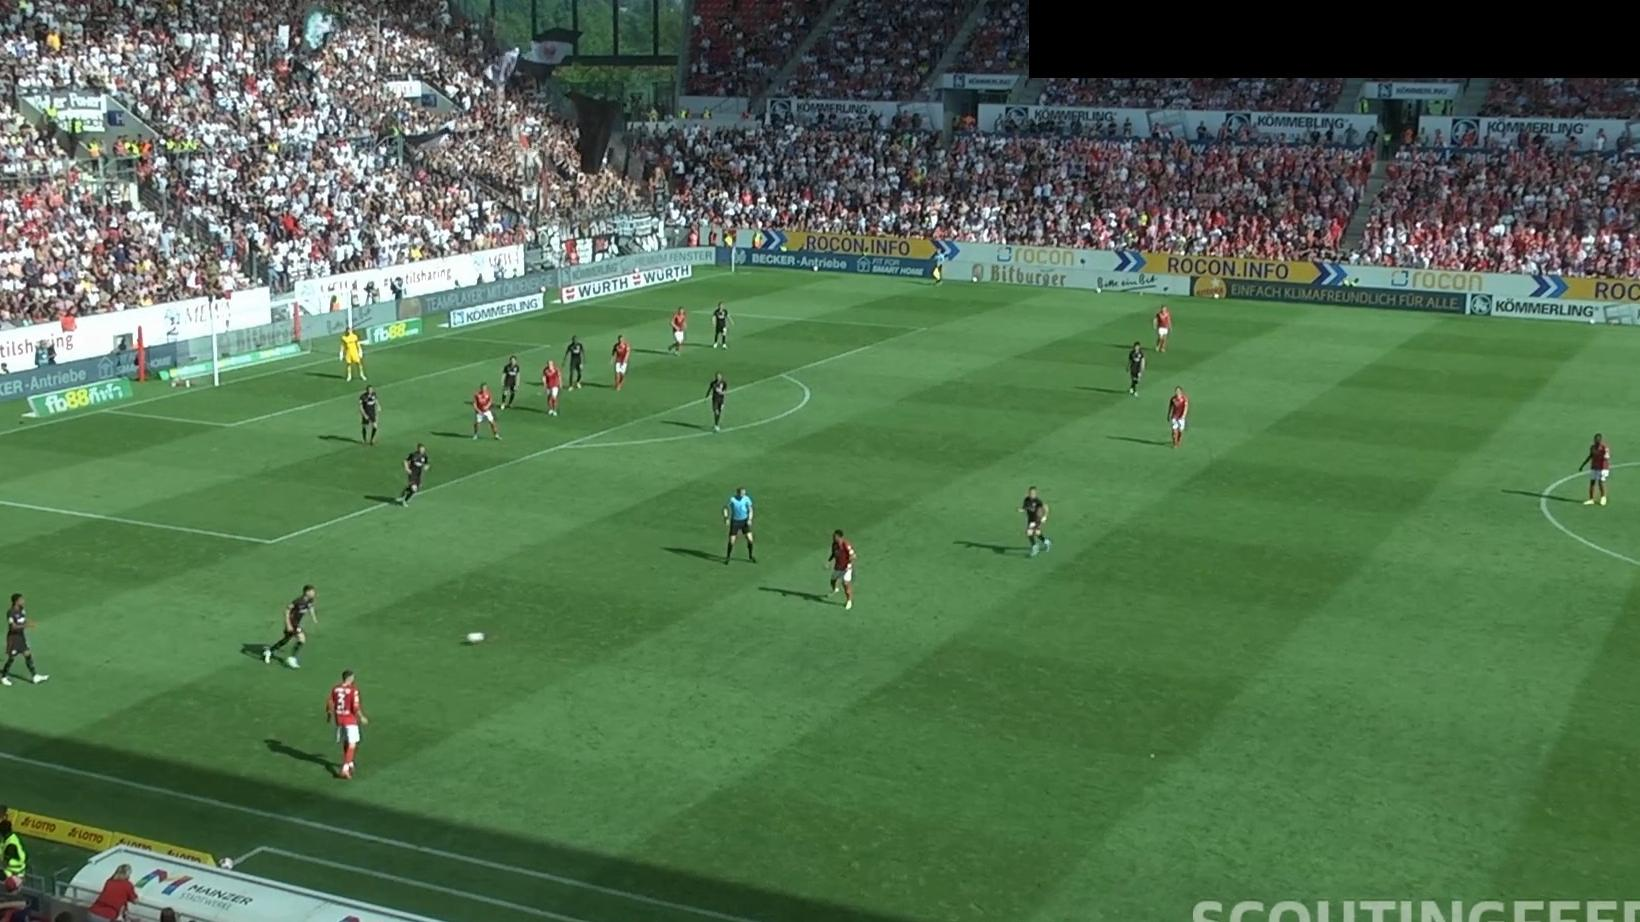ball: (465, 630, 485, 644)
